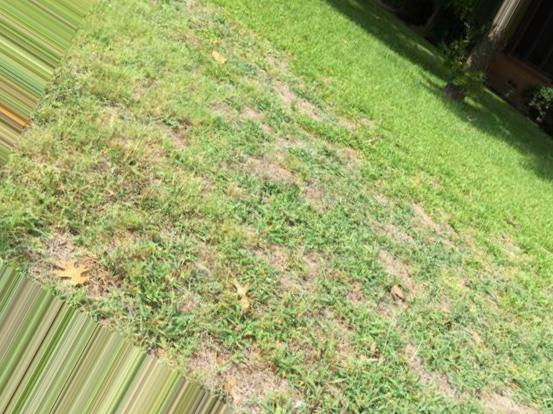patch: (229, 347, 284, 410), (251, 236, 309, 278), (226, 146, 290, 176), (46, 240, 91, 278)
